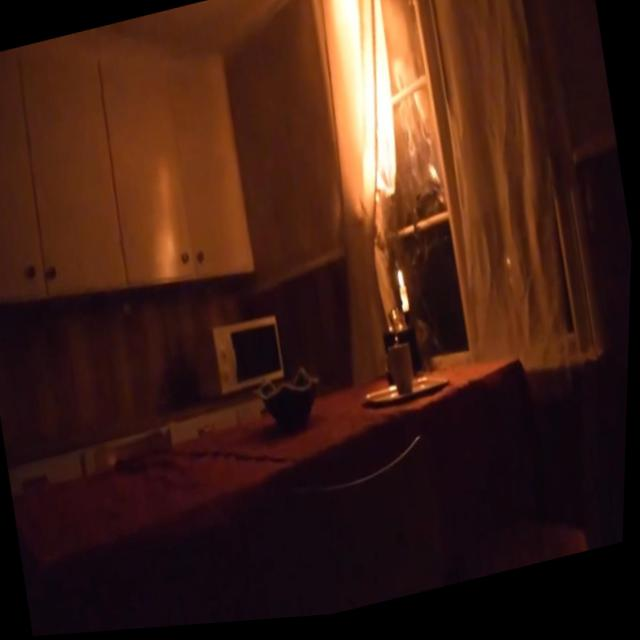fire: (313, 0, 424, 212), (396, 273, 408, 293)
